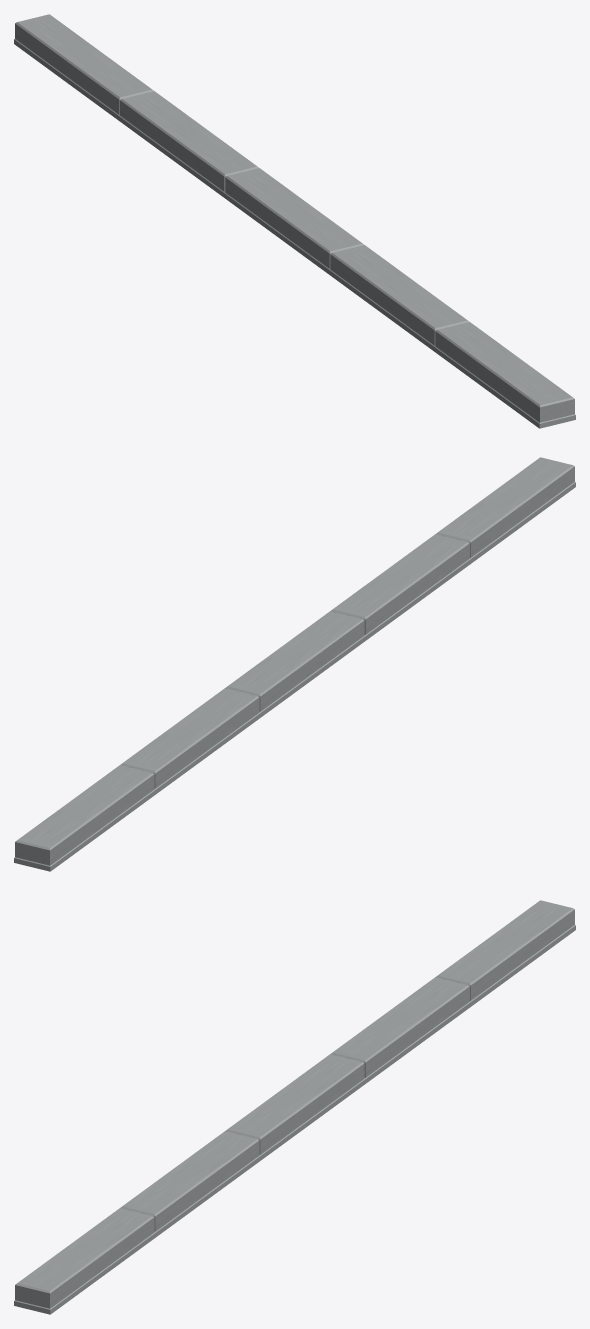
File: showcase_curb.glb
3 views of the same model, one above another, from view 1: azimuth 30°, elevation 25°; view 2: azimuth 150°, elevation 25°; view 3: azimuth 330°, elevation 25° (orthographic).
Visible parts, largest first — view 1: outdoor_showcase_curb; view 2: outdoor_showcase_curb; view 3: outdoor_showcase_curb.
Boxes of the visible parts, left/top/right/bottom form: outdoor_showcase_curb: left=14, top=14, right=575, bottom=428; outdoor_showcase_curb: left=14, top=457, right=575, bottom=871; outdoor_showcase_curb: left=14, top=900, right=575, bottom=1314.
Bounding box in the file's own units: 0.24 × 0.14 × 6.
1 material, 1 textured.
